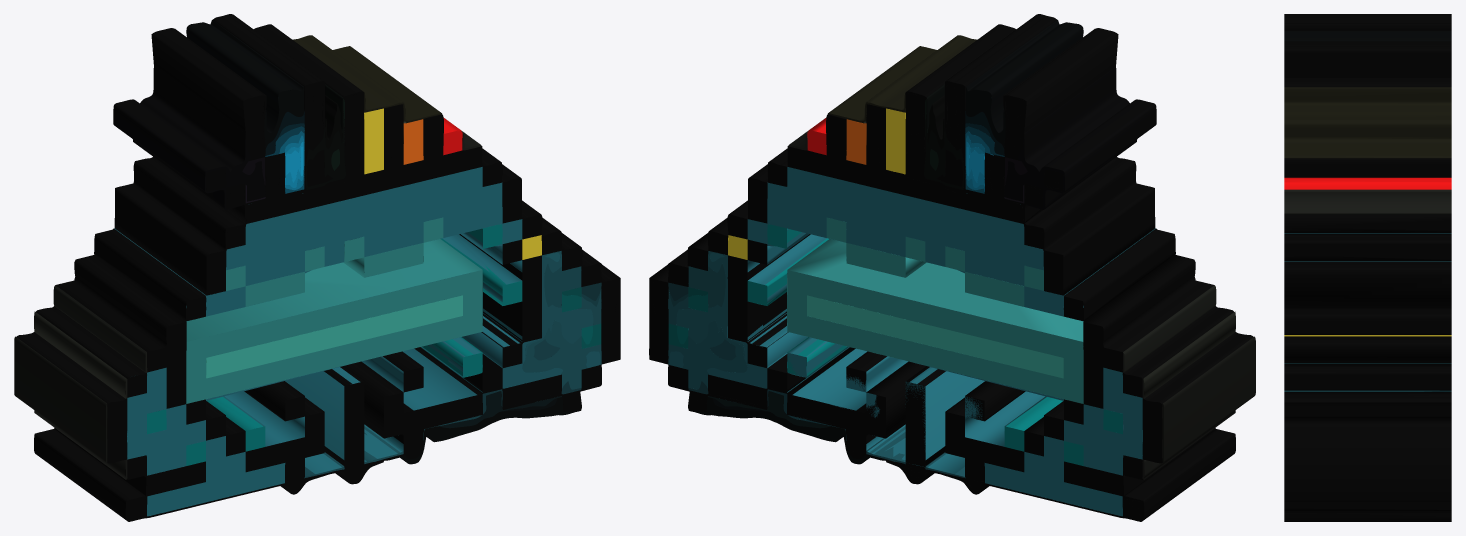
Rendered from Toadz_2638.glb.
3 renders of one model, left to right at view 1: azimuth 30°, elevation 25°; view 2: azimuth 150°, elevation 25°; view 3: azimuth 270°, elevation 25°, orthographic. The views are drawn at different scales.
Parts seen in each view (by area): view 1: Curve; view 2: Curve; view 3: Curve.
Part boxes in pixels (<box>): Curve: <box>14,14,620,521</box>; Curve: <box>649,14,1255,521</box>; Curve: <box>1284,14,1451,521</box>.
Bounding box in the file's own units: 3.24 × 2.48 × 1.
